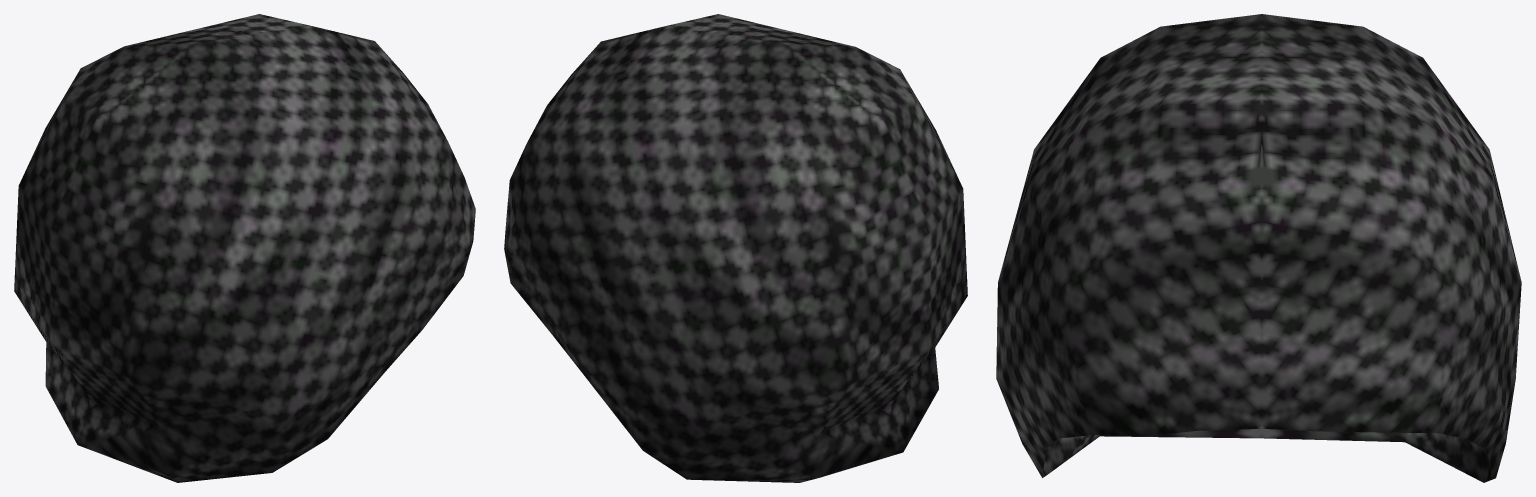
The model's file is hat_0450037.FBX.
3 renders of one model, left to right at view 1: azimuth 30°, elevation 25°; view 2: azimuth 150°, elevation 25°; view 3: azimuth 270°, elevation 25°, orthographic. The views are drawn at different scales.
Visible parts, largest first — view 1: hat_0450037; view 2: hat_0450037; view 3: hat_0450037.
Boxes of the visible parts, x1,y1,x2,y2 form: hat_0450037: (14, 14, 475, 482); hat_0450037: (504, 14, 967, 482); hat_0450037: (996, 14, 1521, 482).
Bounding box in the file's own units: 24.7 × 23.08 × 22.8.
